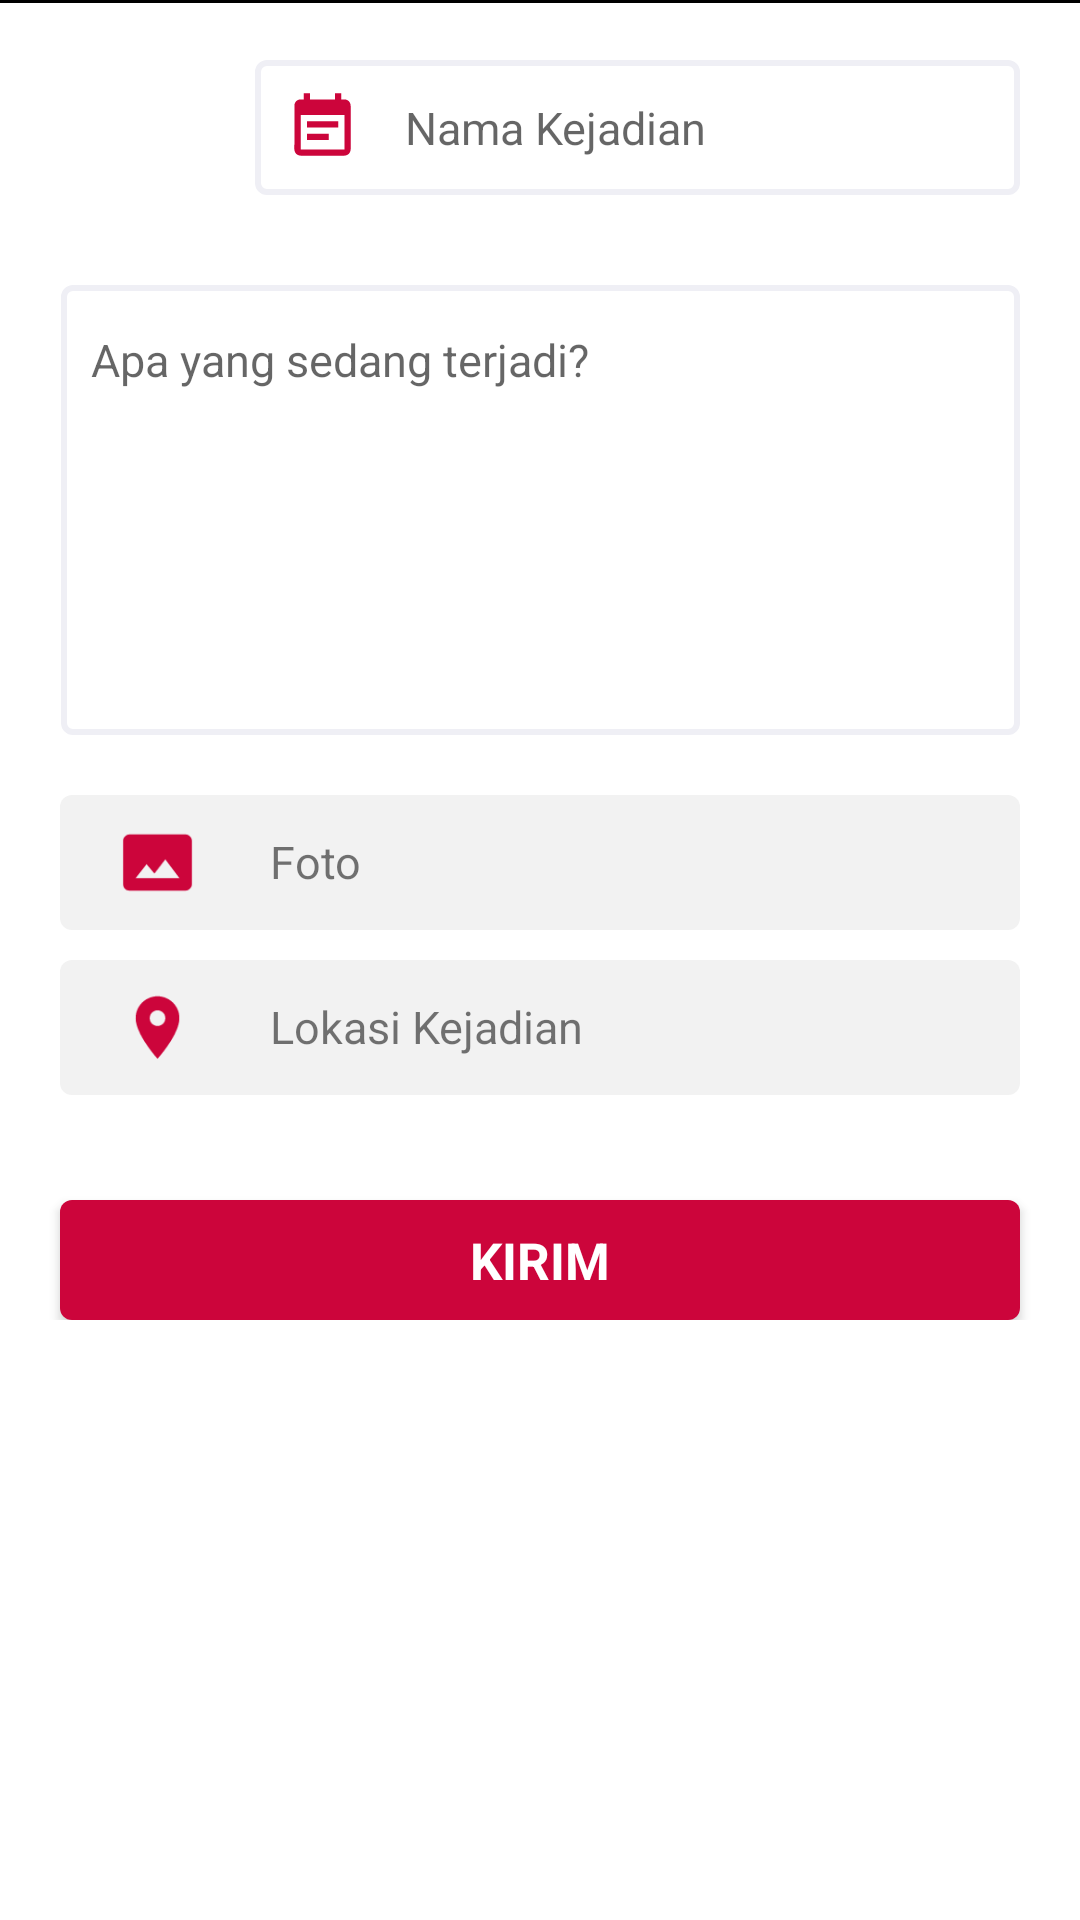

Named icons in this screenshot (1080 x 1920) and their centers, (x,y):
location: (157,1027)
photo: (157,862)
